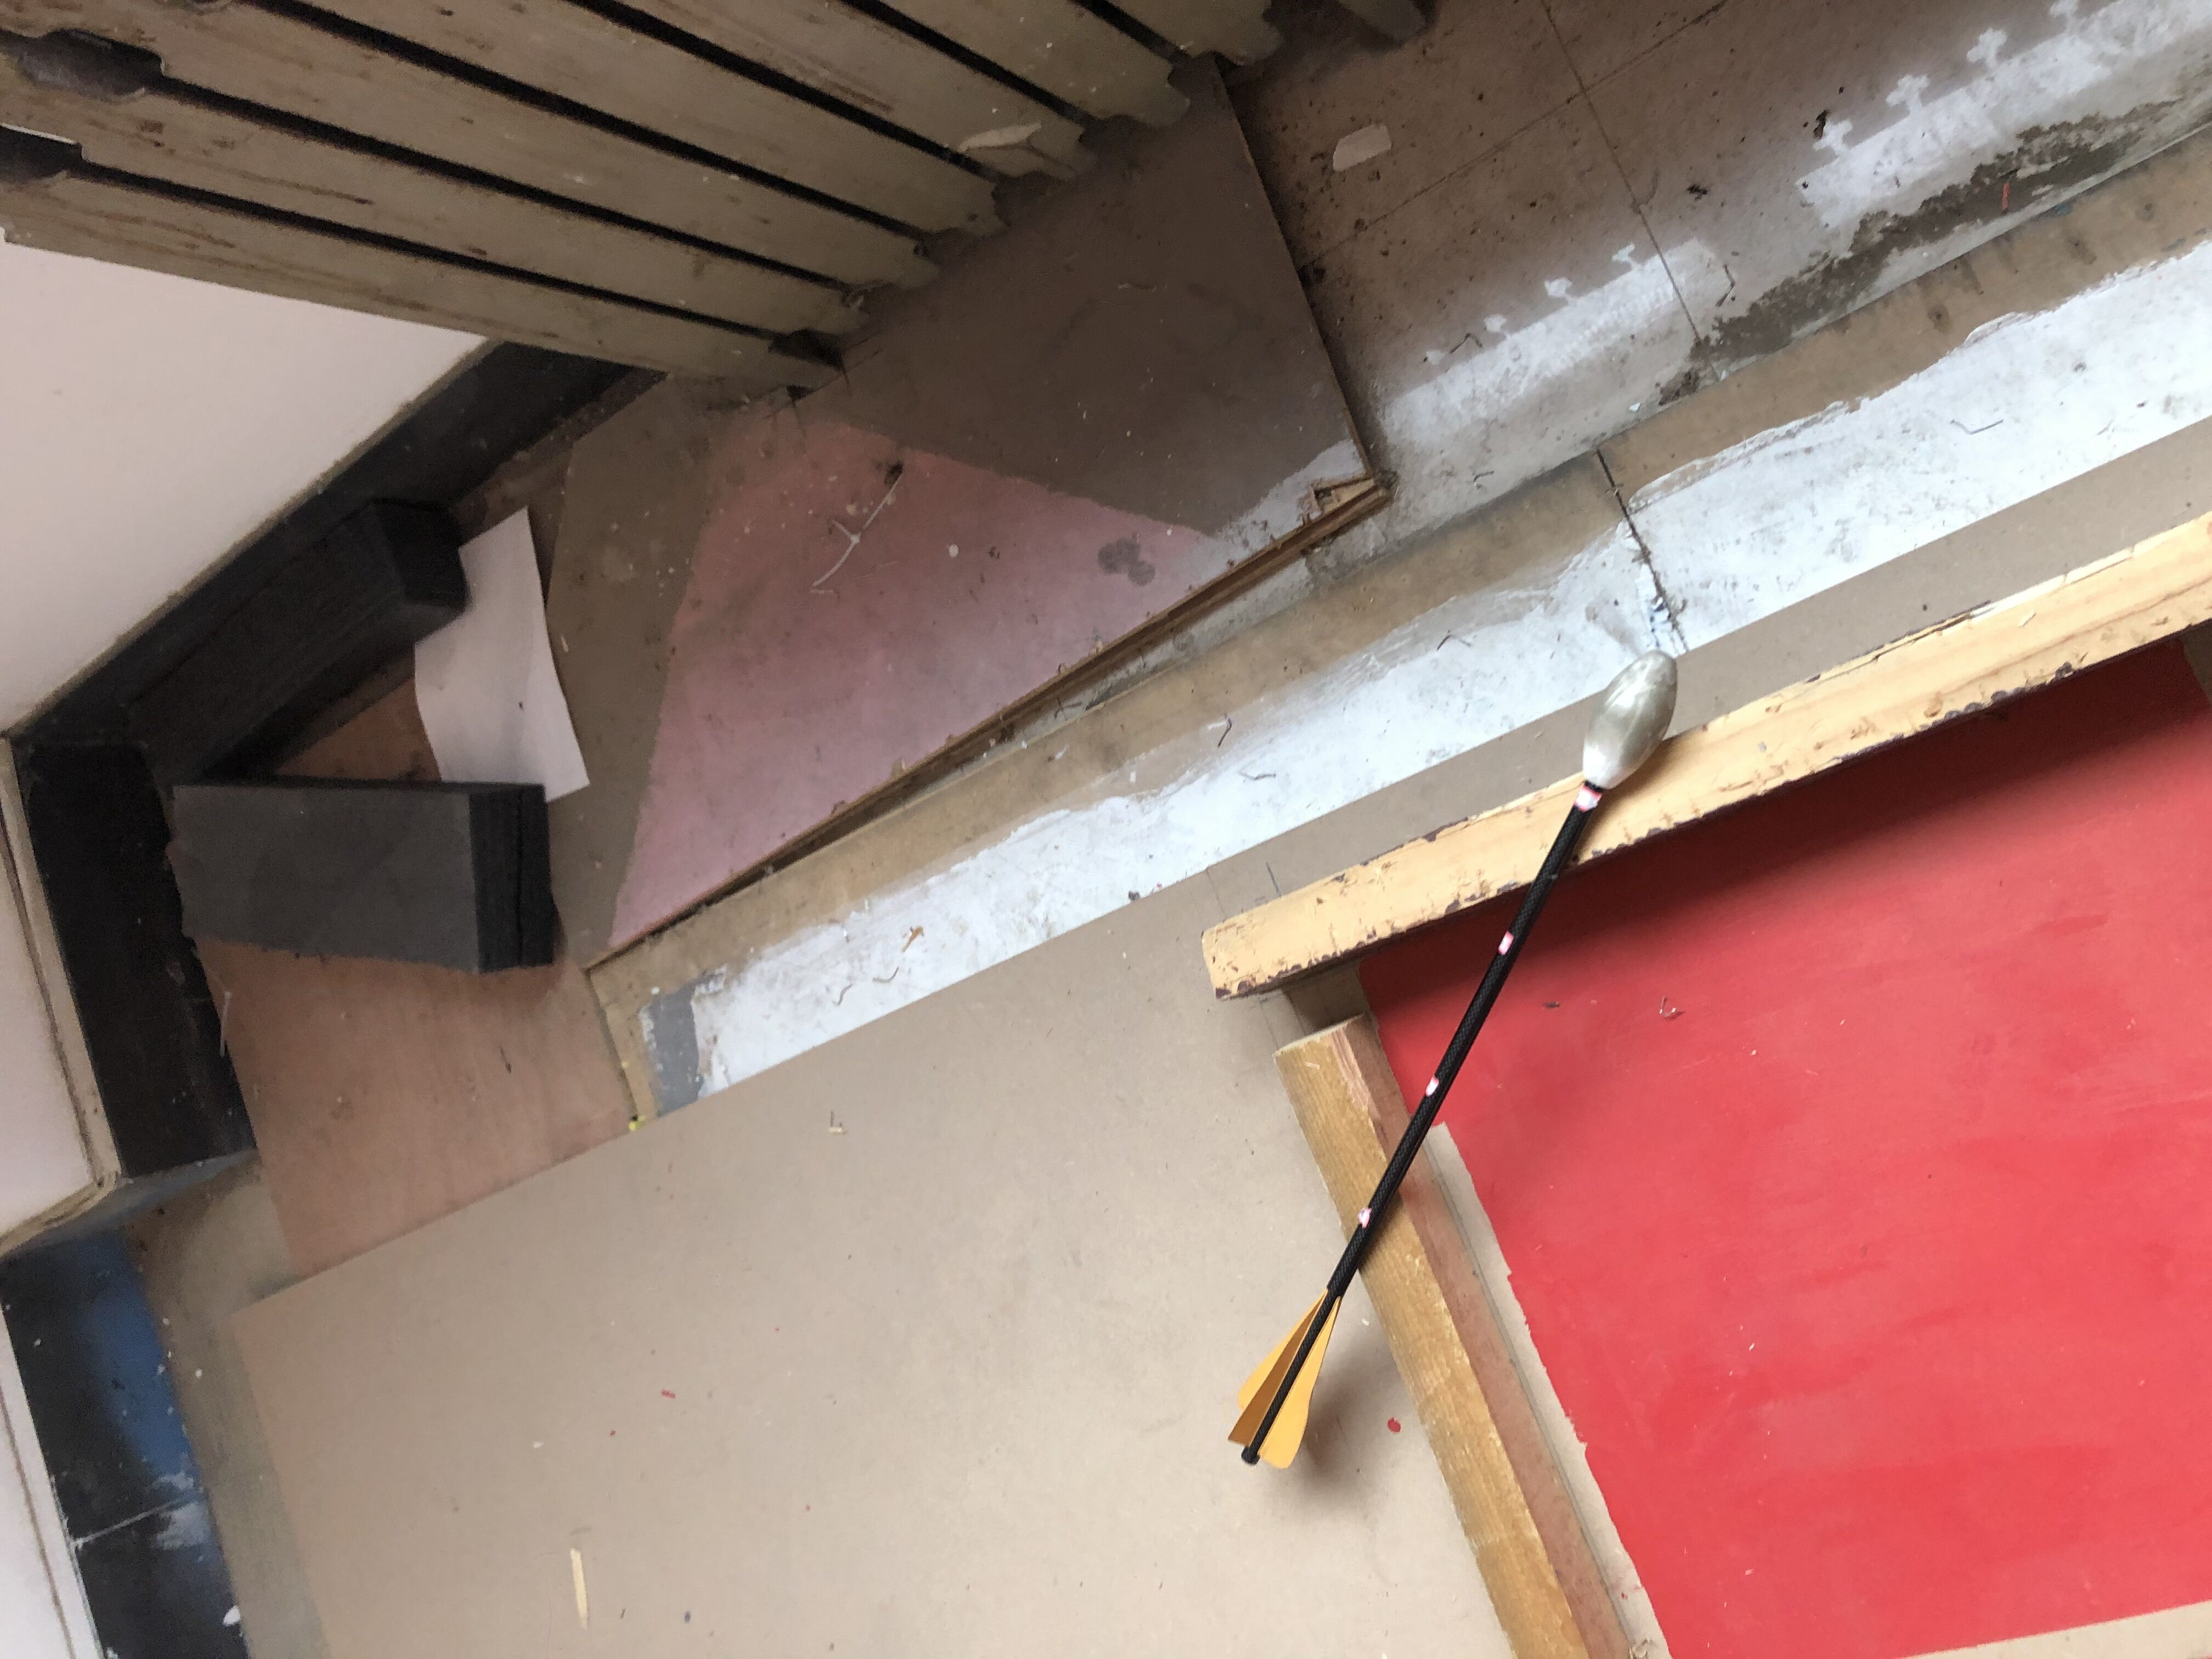arrow: (1226, 655, 1683, 1471)
arrowFront: (1578, 652, 1679, 793)
